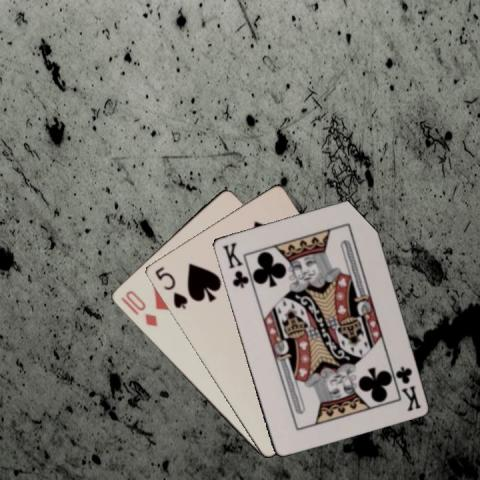10d: (122, 287, 159, 328)
5s: (152, 263, 190, 311)
Kc: (392, 362, 423, 412), (220, 240, 250, 290)
